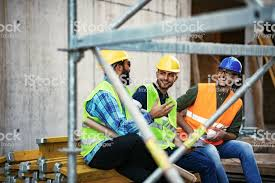helmet: (96, 47, 127, 64), (213, 54, 240, 73), (154, 55, 179, 72)
vest: (82, 85, 133, 152), (194, 87, 236, 143), (144, 85, 180, 146)
